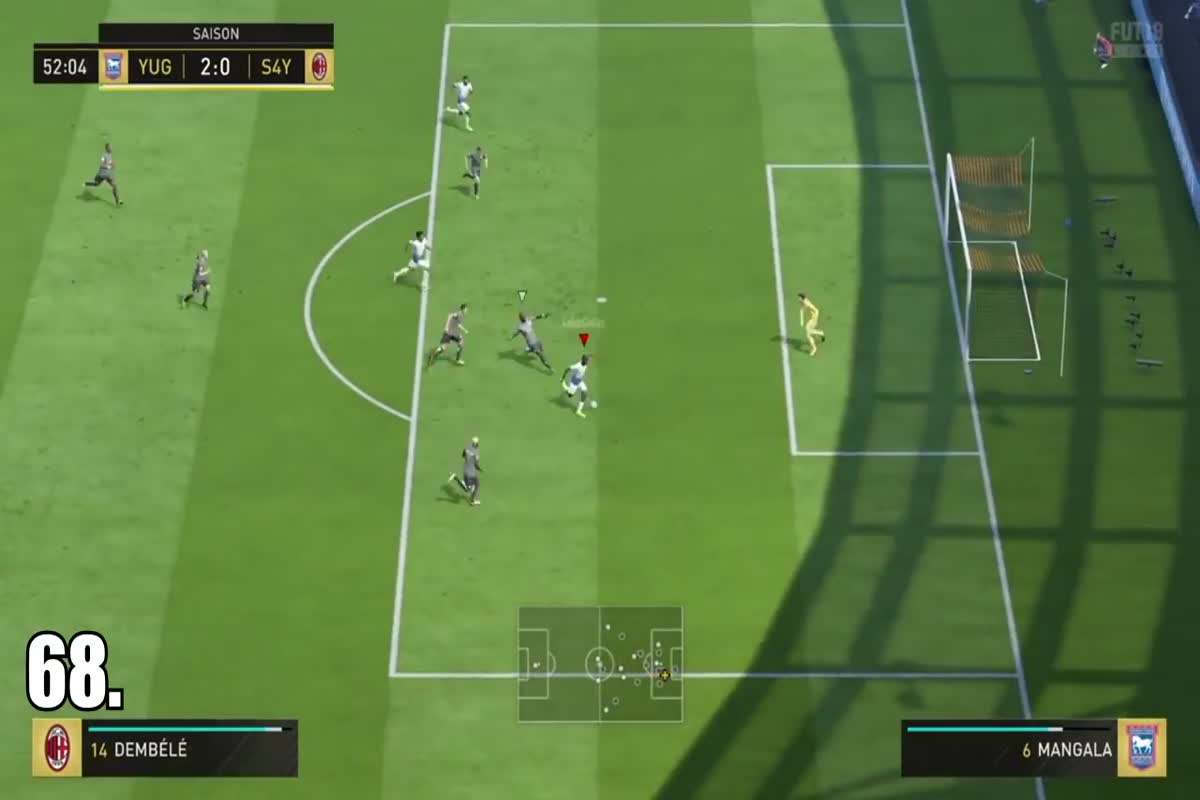ball: (586, 392, 613, 412)
